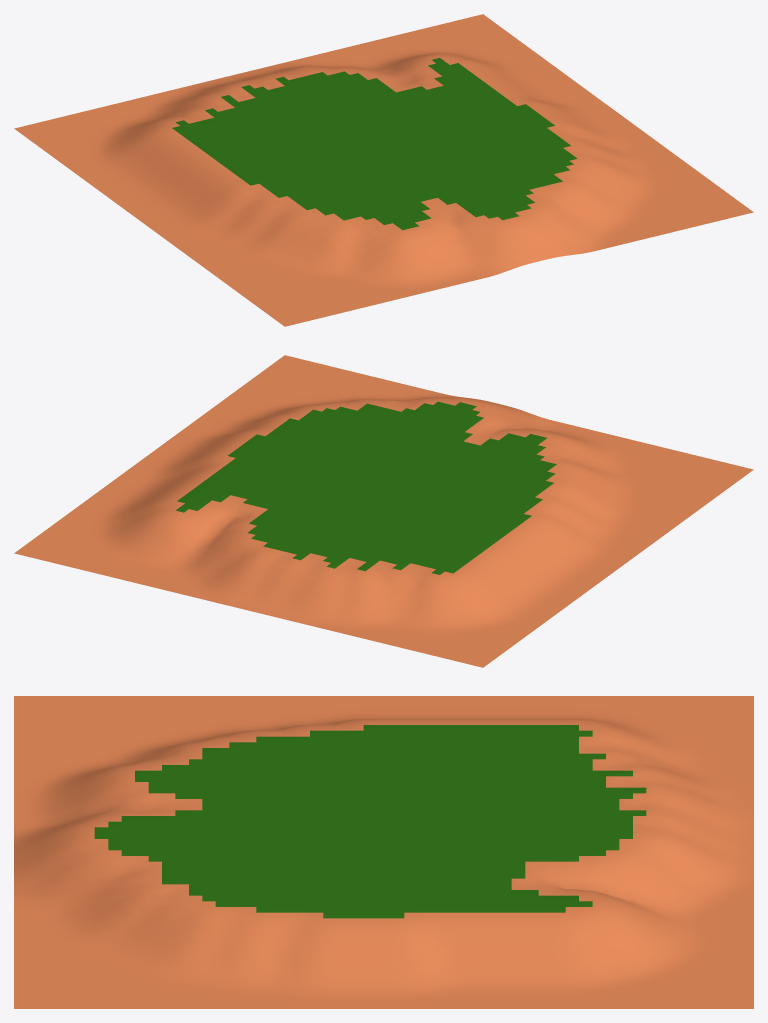
The model's file is Island.dae.
3 views of the same model, one above another, from view 1: azimuth 30°, elevation 25°; view 2: azimuth 150°, elevation 25°; view 3: azimuth 270°, elevation 25° (orthographic). The views are drawn at different scales.
Visible parts, largest first — view 1: Island; view 2: Island; view 3: Island.
Boxes of the visible parts, <box> form: Island: <box>14,14,753,326</box>; Island: <box>14,355,753,667</box>; Island: <box>14,696,753,1008</box>.
Bounding box in the file's own units: 20 × 20 × 1.
